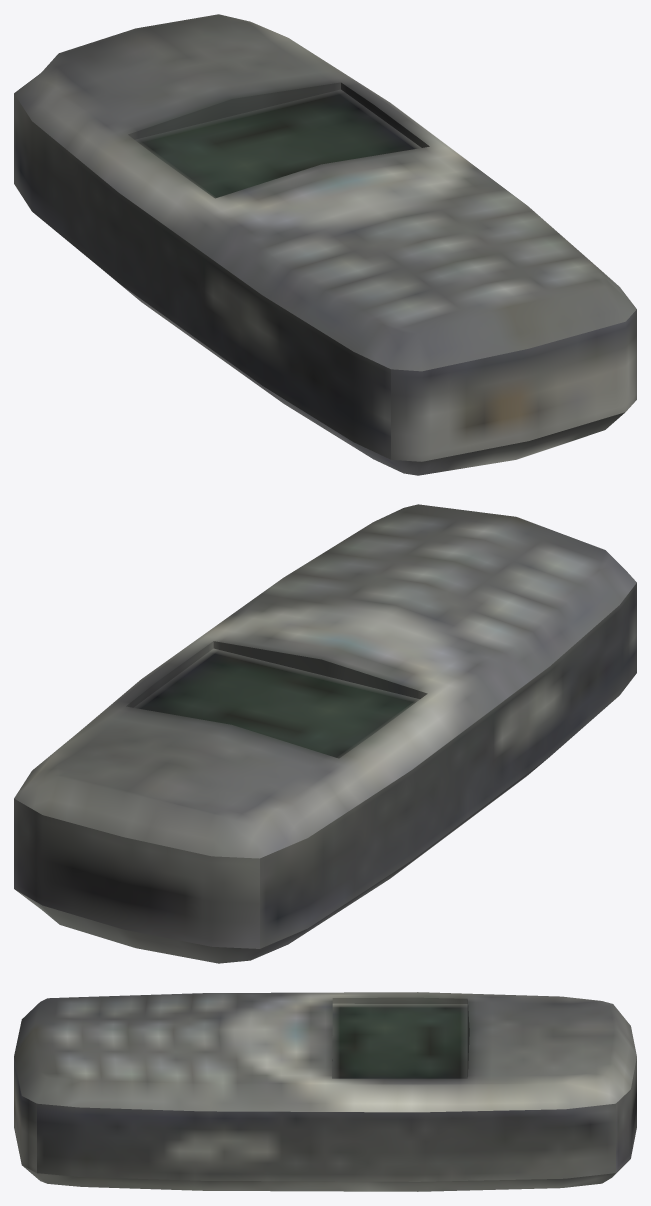
The model's file is cell_phone_1.obj.
The picture shows the model from 3 angles, top to bottom: view 1: azimuth 30°, elevation 25°; view 2: azimuth 150°, elevation 25°; view 3: azimuth 270°, elevation 25°; orthographic projection. The views are drawn at different scales.
Parts seen in each view (by area): view 1: cell_phone_1; view 2: cell_phone_1; view 3: cell_phone_1.
Boxes of the visible parts, x1=… form: cell_phone_1: x1=14, y1=14, x2=636, y2=475; cell_phone_1: x1=14, y1=504, x2=636, y2=963; cell_phone_1: x1=14, y1=992, x2=636, y2=1191.
Bounding box in the file's own units: 0.0877 × 0.0437 × 0.2106.
